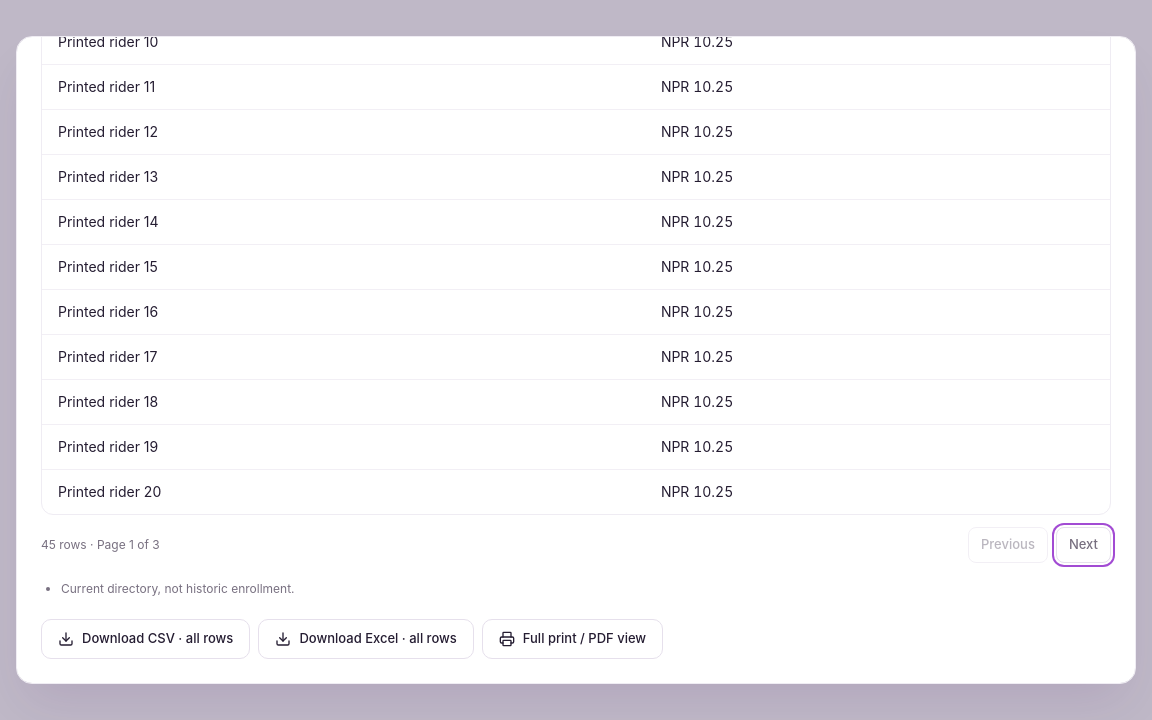
Scenario: printing fetches every saved row instead of printing the visible page
The width and height of the screenshot is (1152, 720).
(page scrolled)
Click the button "Full print / PDF view" at (572, 639), box [482, 619, 663, 659]
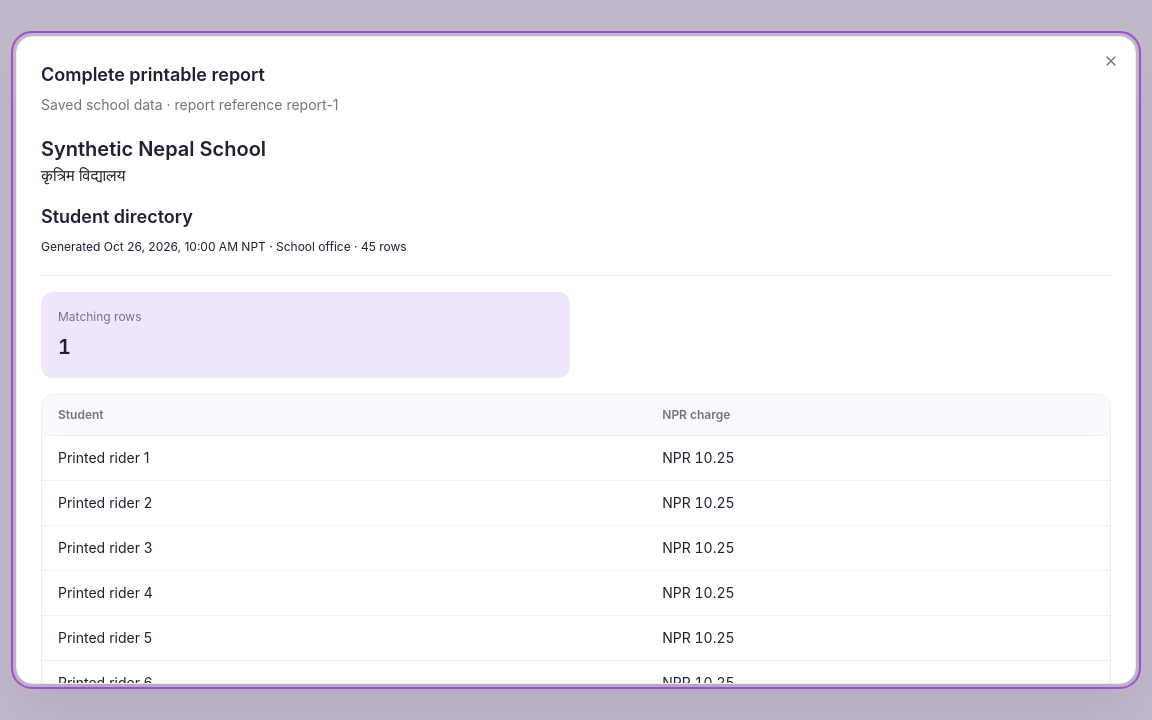
Expected: the text "Synthetic Nepal School" is shown, [41, 137, 266, 161]
